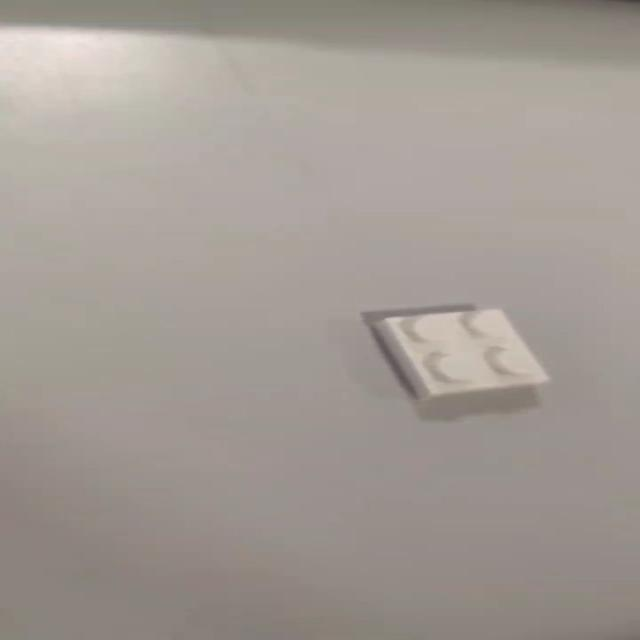C2x2x0: (373, 308, 554, 402)
